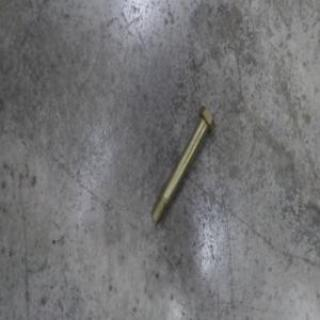Bolttrack_idkeyframe: (150, 103, 214, 226)
